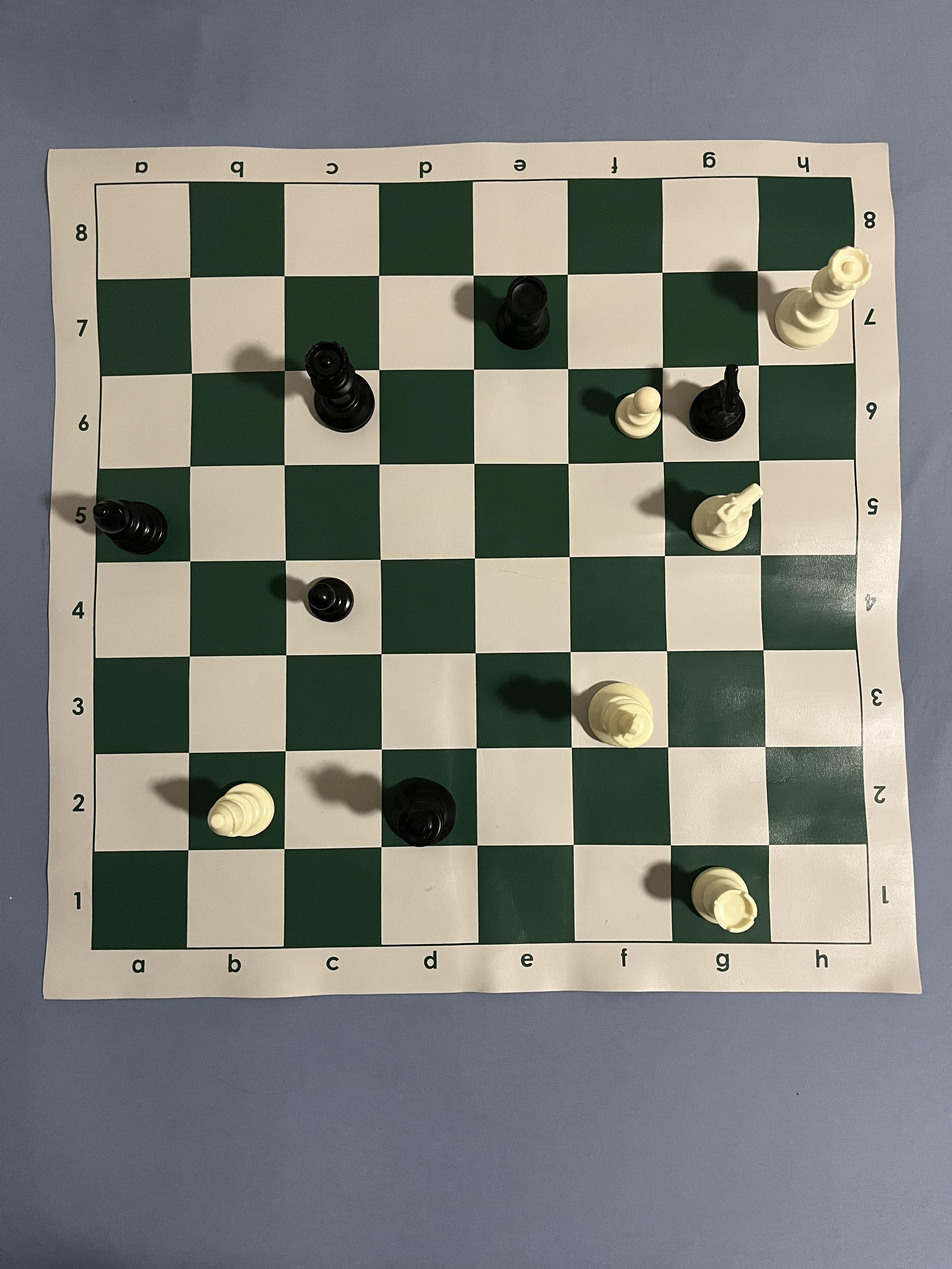black_bishop: (92, 499, 168, 556)
black_king: (387, 777, 457, 848)
black_knight: (688, 363, 747, 443)
black_pawn: (306, 576, 354, 623)
black_queen: (304, 340, 376, 433)
black_rook: (495, 276, 552, 351)
white_bishop: (208, 782, 276, 838)
white_king: (587, 680, 656, 748)
white_knight: (690, 482, 764, 552)
white_pawn: (614, 386, 662, 440)
white_queen: (774, 245, 871, 350)
white_rook: (692, 865, 759, 934)
